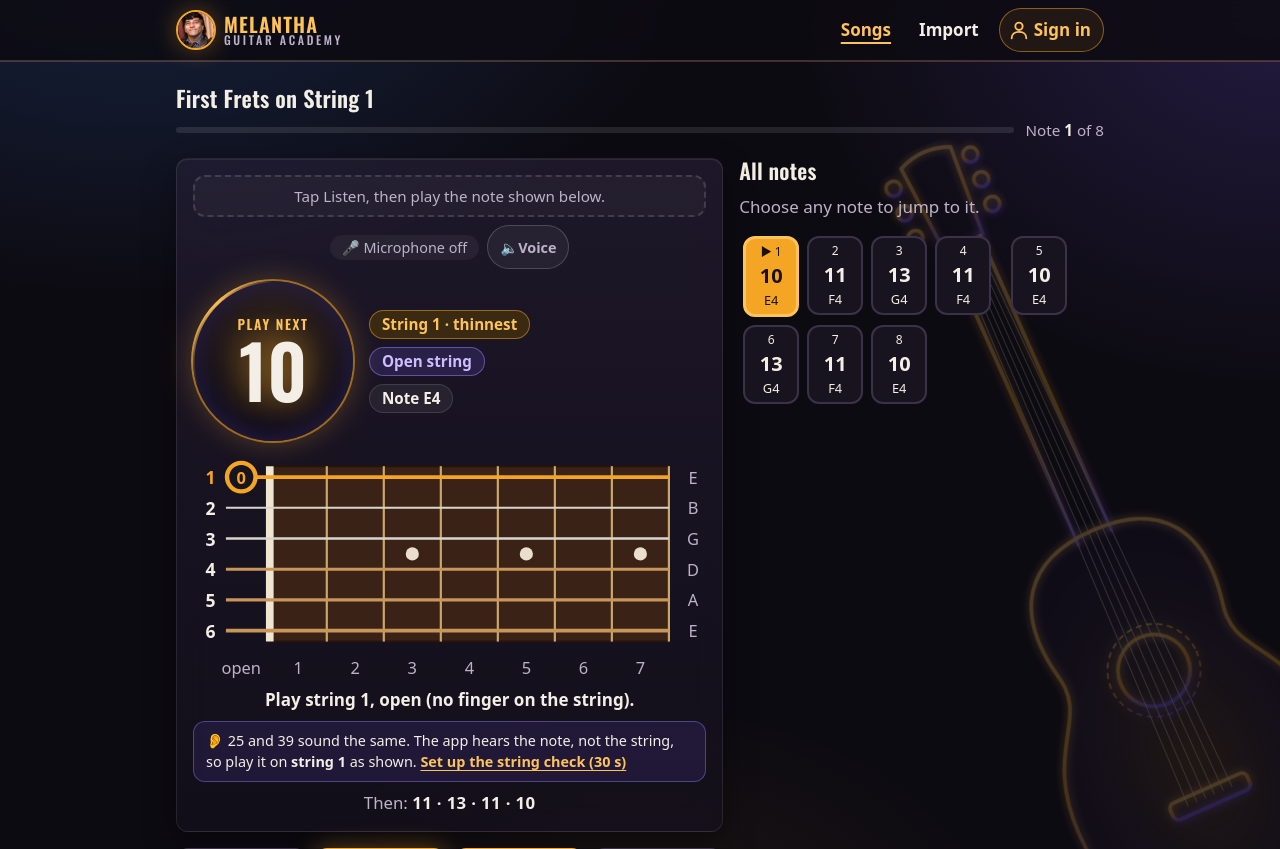
Scenario: Practice navigation › jumps to any note from the timeline and keeps everything in sync
This screenshot has width=1280, height=849.
Click the button named "Note 6 of 8: 13": point(771, 365) [743,325,799,404]
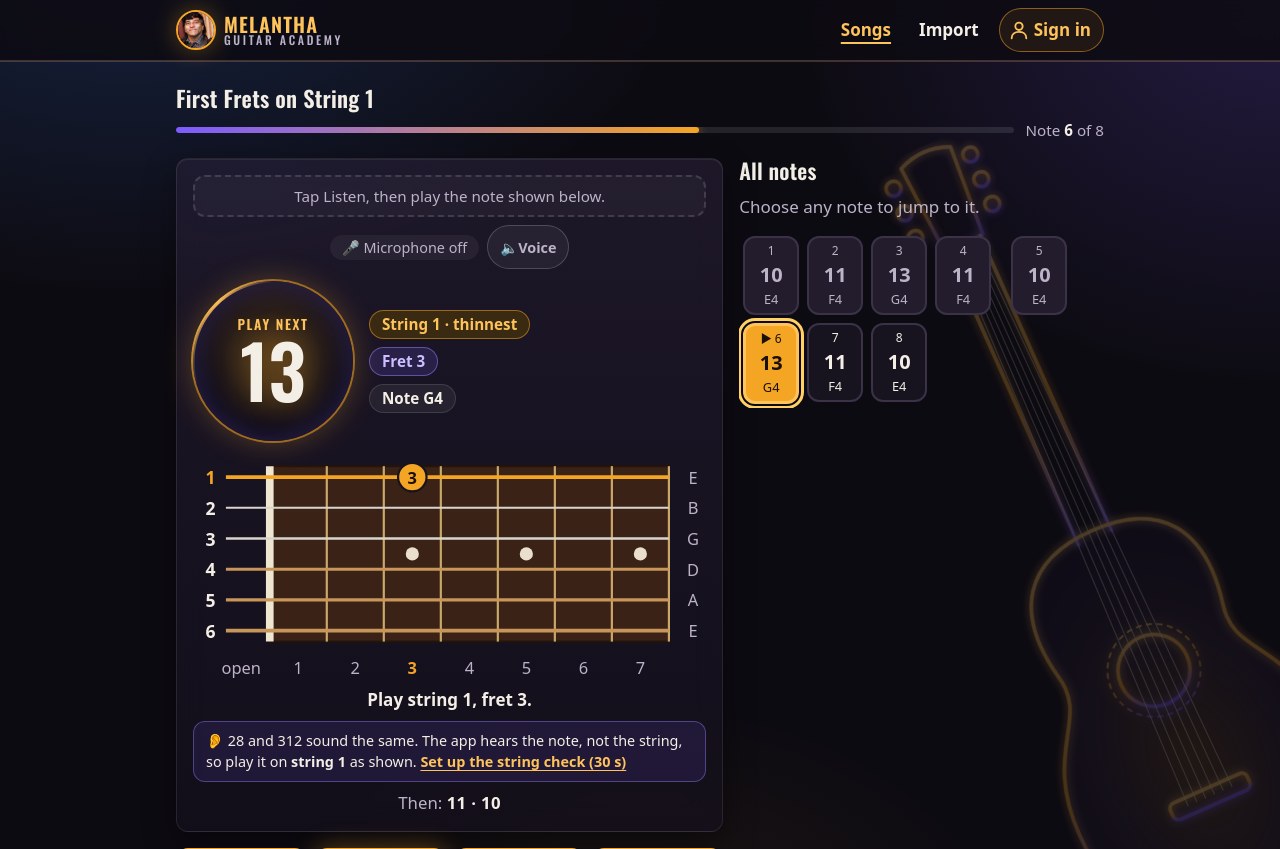
Expected: the element with test id "progress" reads "Note 6 of 8", [1026,119,1104,142]
